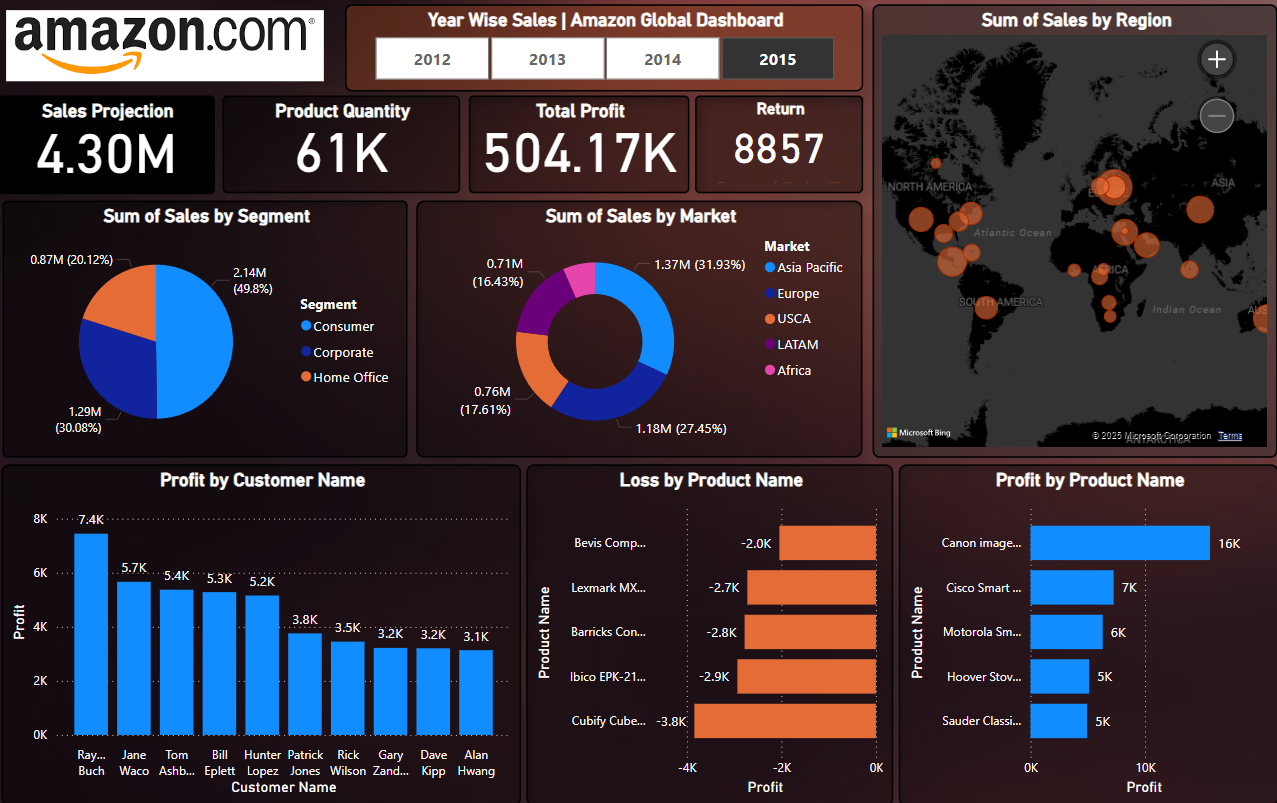

The dashboard page shown, as its layout file describes it:
{"tool":"powerbi","page":{"name":"Report 1","canvas":[1280,800],"ordinal":0},"visuals":[{"type":"card","title":"Sales Projection","fields":{"Values":["Orders.Sales"]},"box":[7,96.4,215.2,97.8],"z":0},{"type":"card","title":"Product Quantity","fields":{"Values":["Orders.Quantity"]},"box":[230.6,96.4,234.8,96.4],"z":1000},{"type":"slicer","title":"Year Wise Sales | Amazon Global Dashboard","fields":{"Values":["Orders.Year"]},"box":[350.8,5.6,513,86.7],"z":2000},{"type":"image","box":[11.2,0,324.3,95],"z":3000},{"type":"card","title":"Total Profit","fields":{"Values":["Orders.Profit"]},"box":[473.8,96.4,218,96.4],"z":4000},{"type":"pieChart","title":"Sum of Sales by Segment","fields":{"Category":["Orders.Segment"],"Y":["Orders.Sales"]},"box":[12.6,199.9,401.1,254.4],"z":5000},{"type":"donutChart","title":"Sum of Sales by Segment","fields":{"Category":["Orders.Market"],"Y":["Orders.Sales"]},"box":[422.1,199.9,441.7,254.4],"z":6000},{"type":"card","title":"Return","fields":{"Values":["Orders.Order ID"]},"box":[697.5,96.4,166.3,96.4],"z":7000},{"type":"columnChart","title":"Profit by Customer Name","fields":{"Category":["Orders.Customer Name"],"Y":["Orders.Profit"]},"box":[11.2,461.2,514.4,338.2],"z":8000},{"type":"clusteredBarChart","title":"Profit by Product Name","fields":{"Category":["Orders.Product Name"],"Y":["Orders.Profit"]},"box":[898.7,461.2,376,338.2],"z":9000},{"type":"clusteredBarChart","title":"Loss by Product Name","fields":{"Category":["Orders.Product Name"],"Y":["Orders.Profit"]},"box":[531.1,461.2,363.4,338.2],"z":10000},{"type":"map","fields":{"Category":["Orders.Region"],"Size":["Orders.Sales"]},"box":[873.6,5.6,401.1,448.7],"z":11000}]}

Visuals, with their boxes in screenshot pixels (x1, y1, x2, y2), scaled from the page's 1280x800 canvas onto the 1277x803 screenshot:
"Sales Projection" card: x1=7 y1=97 x2=222 y2=195
"Product Quantity" card: x1=230 y1=97 x2=464 y2=194
"Year Wise Sales | Amazon Global Dashboard" slicer: x1=350 y1=6 x2=862 y2=93
image: x1=11 y1=0 x2=335 y2=95
"Total Profit" card: x1=473 y1=97 x2=690 y2=194
"Sum of Sales by Segment" pieChart: x1=13 y1=201 x2=413 y2=456
"Sum of Sales by Segment" donutChart: x1=421 y1=201 x2=862 y2=456
"Return" card: x1=696 y1=97 x2=862 y2=194
"Profit by Customer Name" columnChart: x1=11 y1=463 x2=524 y2=802
"Profit by Product Name" clusteredBarChart: x1=897 y1=463 x2=1272 y2=802
"Loss by Product Name" clusteredBarChart: x1=530 y1=463 x2=892 y2=802
map - Orders.Region x Orders.Sales: x1=872 y1=6 x2=1272 y2=456
